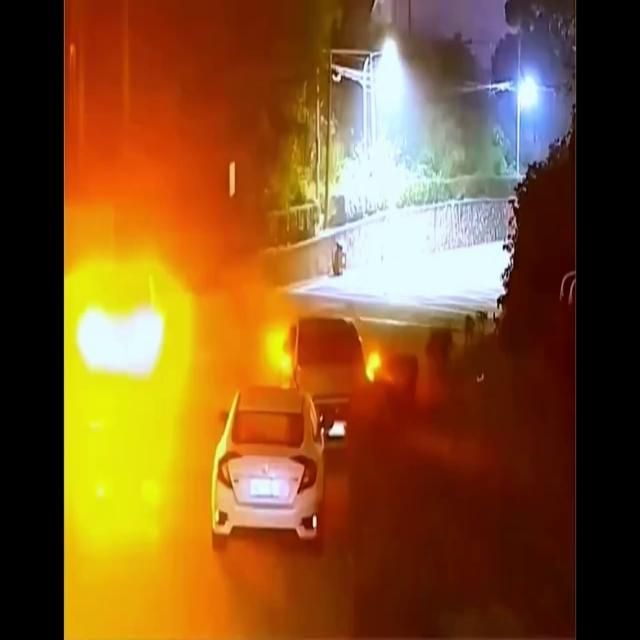multiple_accident: (193, 270, 420, 583)
